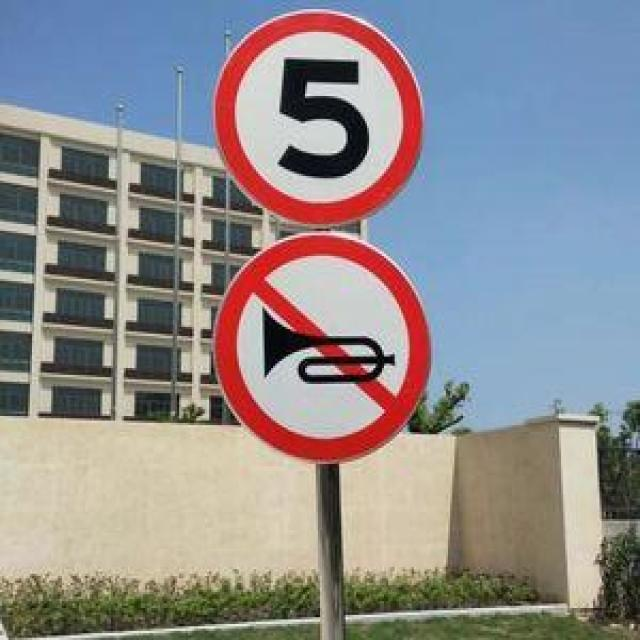speed limit 10: (214, 8, 424, 226)
